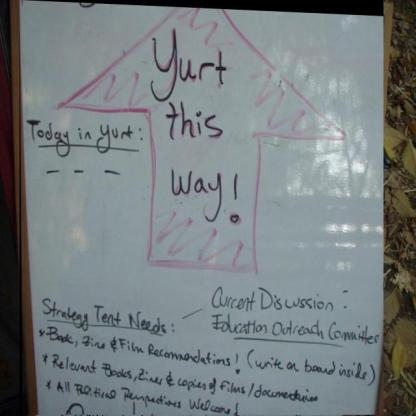Handwritten text: (40, 349, 324, 407), (43, 322, 238, 372), (47, 374, 236, 416), (206, 312, 383, 349), (144, 28, 232, 101), (33, 293, 171, 336), (25, 110, 141, 161), (249, 347, 374, 388), (204, 280, 341, 316), (158, 162, 228, 230), (161, 99, 231, 147)
Whiteboard: (13, 2, 385, 416)
